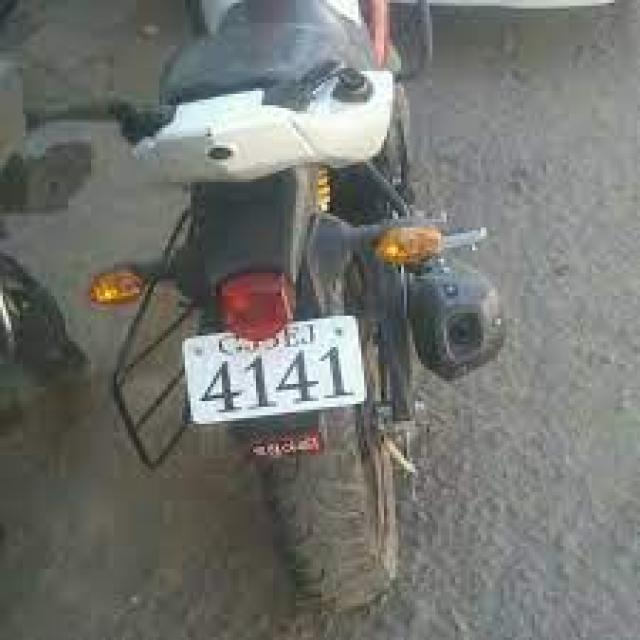license_plate: (176, 310, 370, 424)
